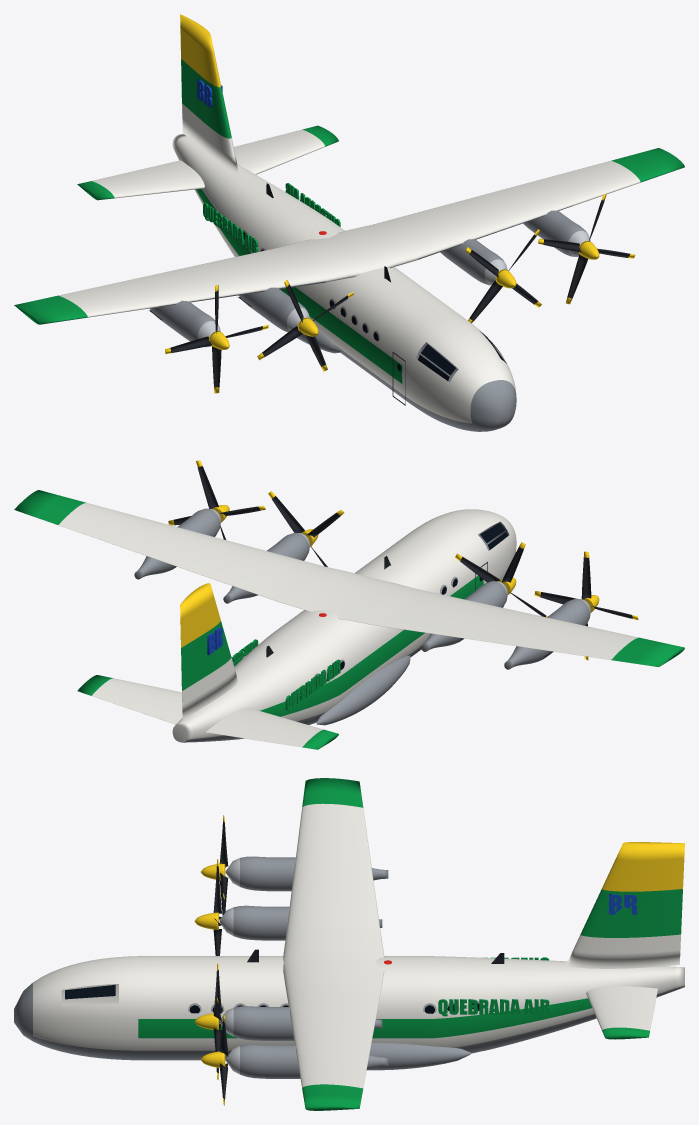
The model's file is airplane.glb.
3 renders of one model, top to bottom at view 1: azimuth 30°, elevation 25°; view 2: azimuth 150°, elevation 25°; view 3: azimuth 270°, elevation 25°, orthographic. The views are drawn at different scales.
Parts seen in each view (by area): view 1: Aviao, Helice_0, Helice_3, Helice_1, Helice_2; view 2: Aviao, Helice_0, Helice_1, Helice_3, Helice_2; view 3: Aviao.
Boxes of the visible parts, <box> form: Aviao: <box>14,14,684,431</box>; Helice_0: <box>165,284,268,393</box>; Helice_3: <box>538,194,635,304</box>; Helice_1: <box>257,280,353,371</box>; Helice_2: <box>465,229,541,323</box>; Aviao: <box>14,490,684,749</box>; Helice_0: <box>534,551,638,660</box>; Helice_1: <box>455,542,547,617</box>; Helice_3: <box>168,460,265,539</box>; Helice_2: <box>268,491,344,566</box>; Aviao: <box>14,778,684,1110</box>.
Bounding box in the file's own units: 30 × 9.02 × 25.99.
